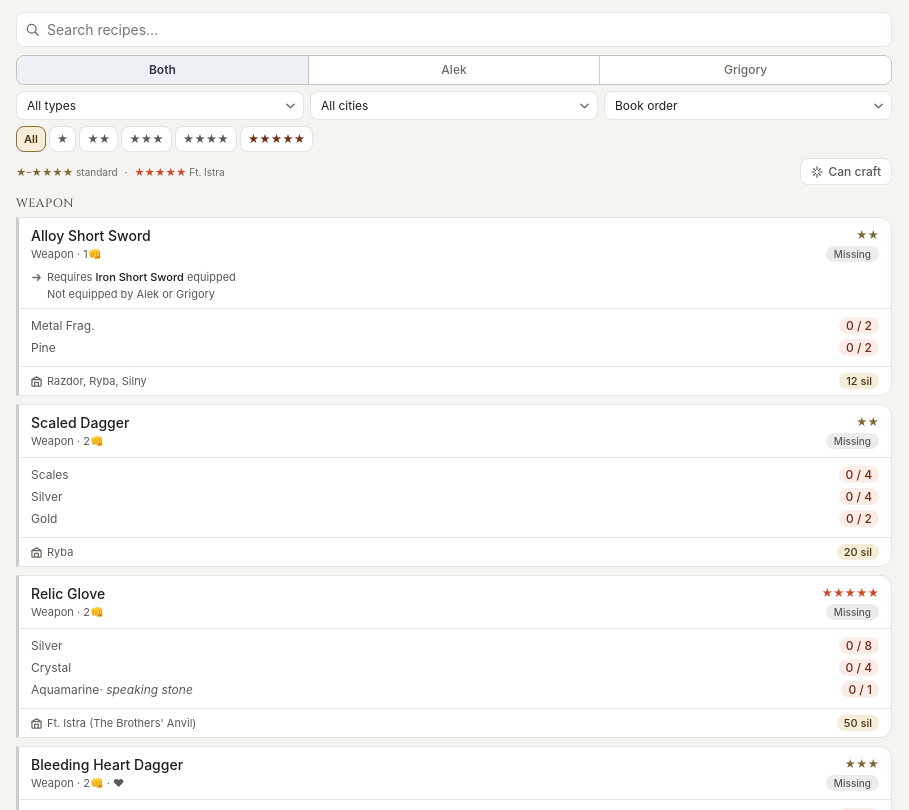
Test: CraftTab — search › shows the empty state when nothing matches
In the search field with class "craft-search": (454, 30) [16,12,892,47], type "zzzznotarecipe"
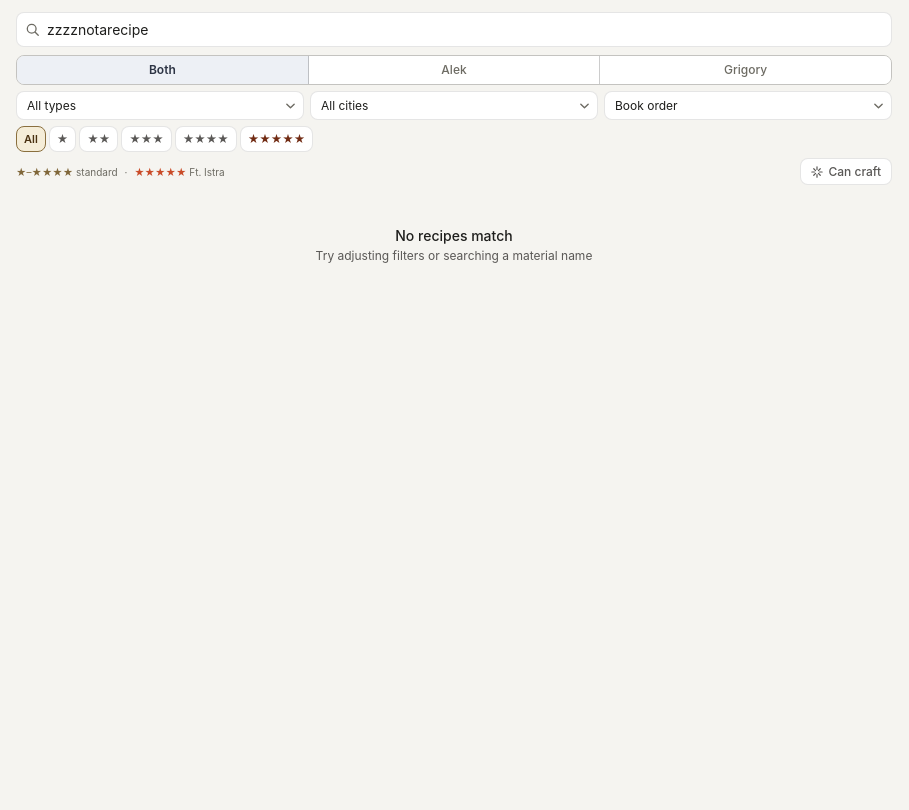
Result: no elements with class "craft-card" are shown
Result: the text "No recipes match" is shown at [395,227,513,244]
